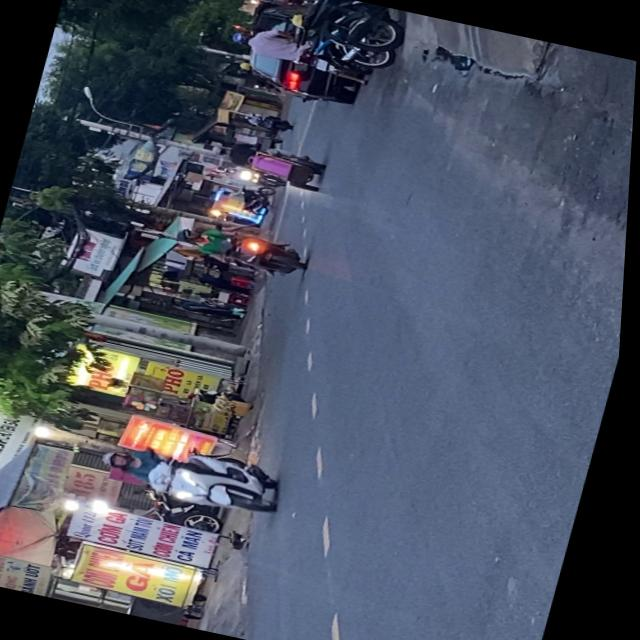helmet: (103, 450, 139, 472)
licenseplate: (96, 430, 295, 522)
nohelmet: (313, 59, 330, 72)
